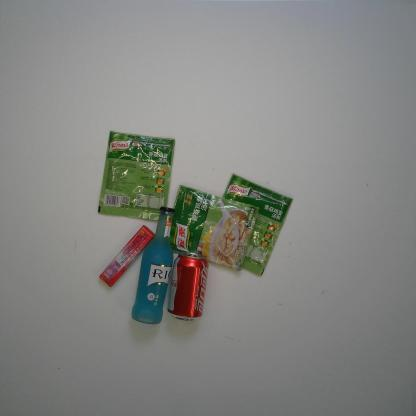Alcohol: (132, 206, 176, 326)
Candy: (99, 224, 156, 287)
Drink: (167, 252, 209, 322)
Seasoner: (167, 184, 260, 272), (220, 173, 294, 276), (97, 130, 176, 222)
